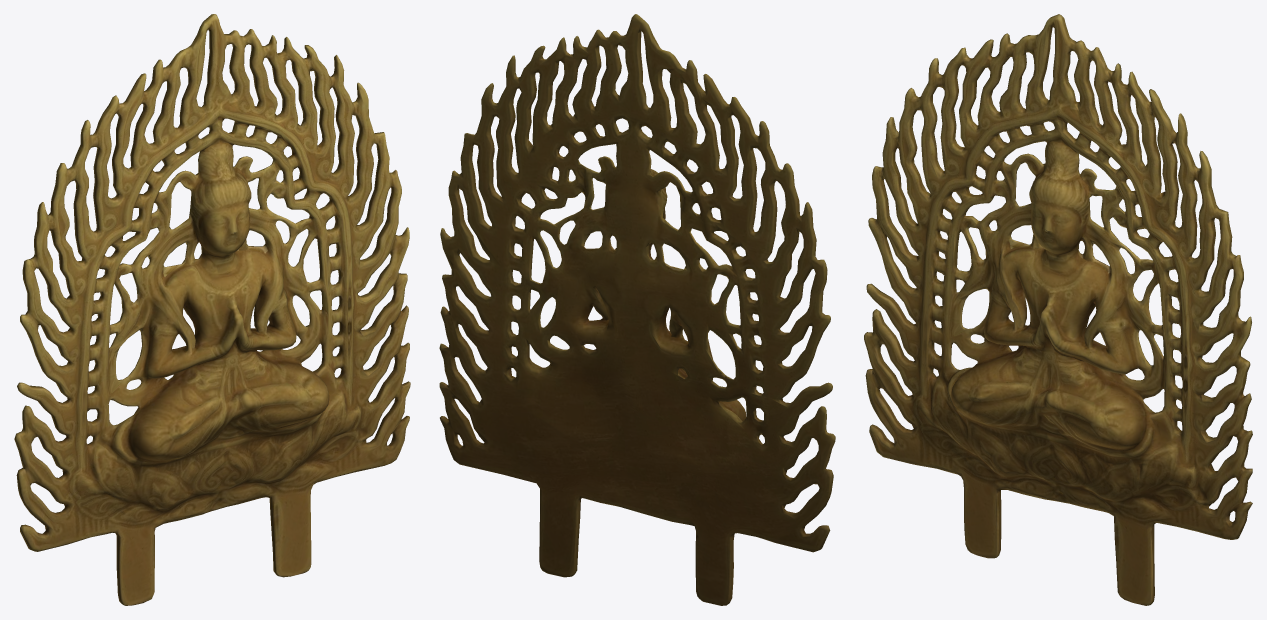
Rendered from buddha-hapjang.glb.
3 renders of one model, left to right at view 1: azimuth 30°, elevation 25°; view 2: azimuth 150°, elevation 25°; view 3: azimuth 330°, elevation 25°, orthographic.
Parts seen in each view (by area): view 1: SM_RE20003_LO; view 2: SM_RE20003_LO; view 3: SM_RE20003_LO.
Boxes of the visible parts, x1,y1,x2,y2 form: SM_RE20003_LO: (14, 14, 410, 605); SM_RE20003_LO: (439, 14, 835, 605); SM_RE20003_LO: (864, 14, 1252, 605).
Bounding box in the file's own units: 0.1405 × 0.1972 × 0.0179.
1 material, 1 textured.
